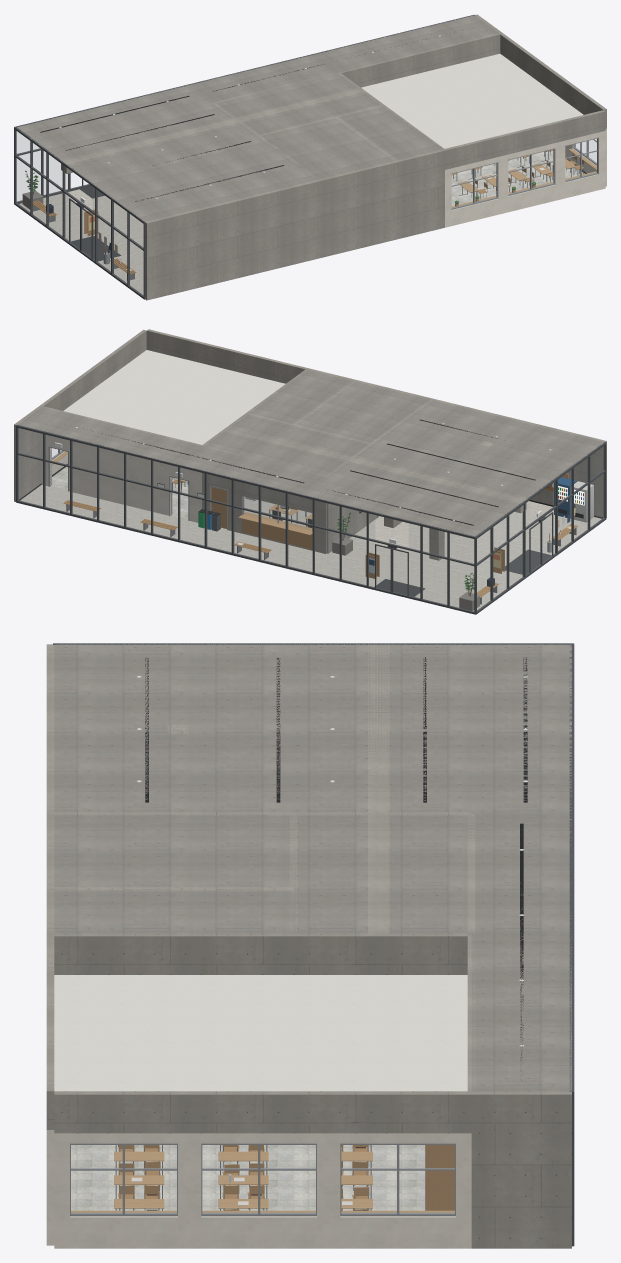
Rendered from socsci_bldg1f.glb.
3 views of the same model, one above another, from view 1: azimuth 30°, elevation 25°; view 2: azimuth 150°, elevation 25°; view 3: azimuth 270°, elevation 25° (orthographic). The views are drawn at different scales.
Parts seen in each view (by area): view 1: sb_ceiling_concrete, WALL_south_conc, sb_acoustic, ck_glass, WALL_south_plaster, sb_curtain_mullion, sb_floor_terrazzo, WALL_class_north_conc, WALL_east_conc, sb_floor_vinyl, sb_concrete, sb_vc (+6 smaller); view 2: sb_ceiling_concrete, ck_glass, sb_floor_terrazzo, sb_curtain_mullion, sb_acoustic, WALL_class_north_plaster, WALL_south_conc, WALL_east_conc, sb_vc, WALL_office_north_conc, sb_concrete, sb_wood (+7 smaller); view 3: sb_ceiling_concrete, sb_acoustic, WALL_east_conc, WALL_east_plaster, ck_glass, WALL_office_east_conc, sb_floor_vinyl, sb_concrete, sb_wood_light, sb_aluminium, WALL_south_conc, sb_curtain_mullion (+9 smaller).
Boxes of the visible parts, bbox=[...] form: sb_ceiling_concrete: bbox=[17, 15, 498, 221]; WALL_south_conc: bbox=[145, 110, 605, 300]; sb_acoustic: bbox=[361, 54, 583, 148]; ck_glass: bbox=[16, 131, 596, 294]; WALL_south_plaster: bbox=[445, 131, 605, 227]; sb_curtain_mullion: bbox=[14, 15, 474, 299]; sb_floor_terrazzo: bbox=[19, 189, 143, 294]; WALL_class_north_conc: bbox=[339, 33, 500, 87]; WALL_east_conc: bbox=[475, 14, 606, 128]; sb_floor_vinyl: bbox=[451, 150, 584, 206]; sb_concrete: bbox=[61, 88, 363, 178]; sb_vc: bbox=[22, 35, 550, 270]; sb_ceiling_concrete: bbox=[18, 370, 603, 536]; ck_glass: bbox=[18, 428, 603, 611]; sb_floor_terrazzo: bbox=[20, 485, 601, 611]; sb_curtain_mullion: bbox=[16, 424, 606, 614]; sb_acoustic: bbox=[63, 350, 285, 444]; WALL_class_north_plaster: bbox=[41, 433, 201, 522]; WALL_south_conc: bbox=[146, 329, 606, 518]; WALL_east_conc: bbox=[14, 330, 146, 501]; sb_vc: bbox=[75, 423, 593, 610]; WALL_office_north_conc: bbox=[202, 446, 327, 553]; sb_concrete: bbox=[225, 429, 526, 560]; sb_wood: bbox=[63, 473, 577, 597]; sb_ceiling_concrete: bbox=[54, 644, 571, 1091]; sb_acoustic: bbox=[54, 975, 467, 1091]; WALL_east_conc: bbox=[54, 1091, 571, 1248]; WALL_east_plaster: bbox=[54, 1133, 471, 1248]; ck_glass: bbox=[71, 1145, 454, 1212]; WALL_office_east_conc: bbox=[54, 933, 471, 974]; sb_floor_vinyl: bbox=[71, 1145, 425, 1210]; sb_concrete: bbox=[167, 644, 389, 934]; sb_wood_light: bbox=[71, 1151, 454, 1212]; sb_aluminium: bbox=[70, 1143, 455, 1216]; WALL_south_conc: bbox=[46, 644, 54, 1129]; sb_curtain_mullion: bbox=[53, 643, 574, 1246].
Bounding box in the file's own units: 27.72 × 4.42 × 13.66.
Materials: 29 (9 with a texture image).
